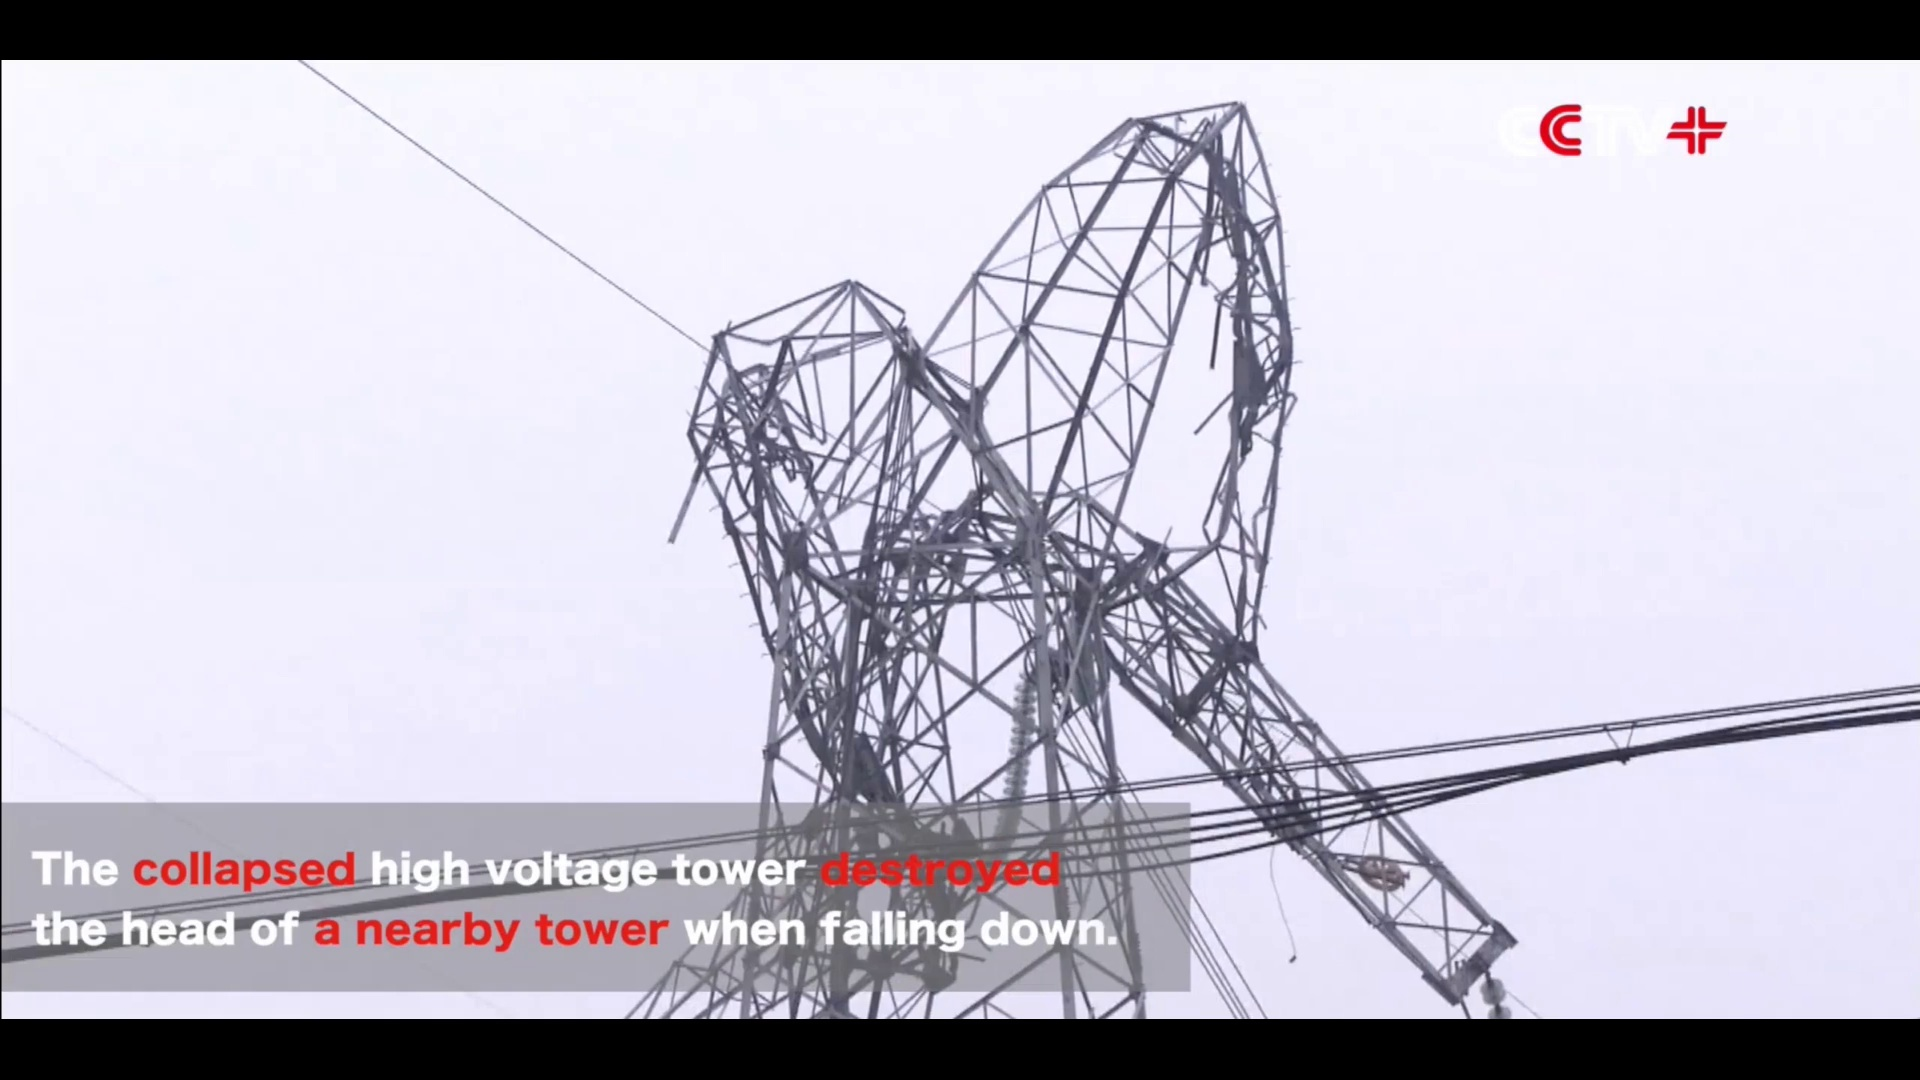tower_up: (675, 111, 1531, 1080)
